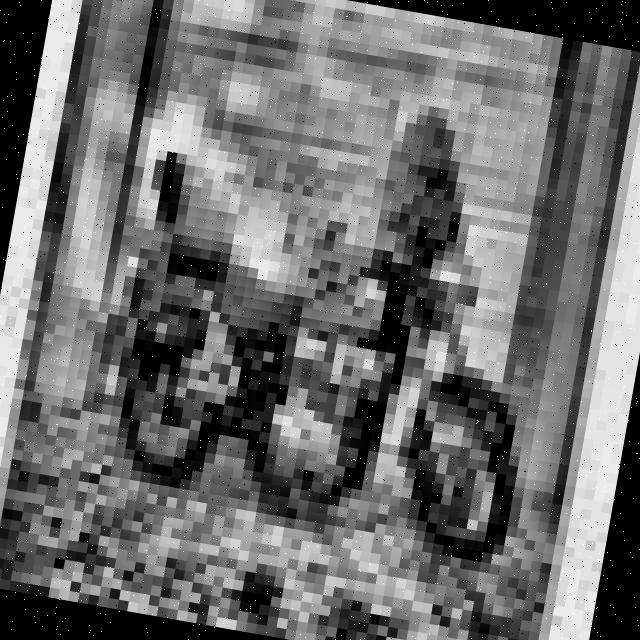mopeds: (70, 120, 606, 585)
